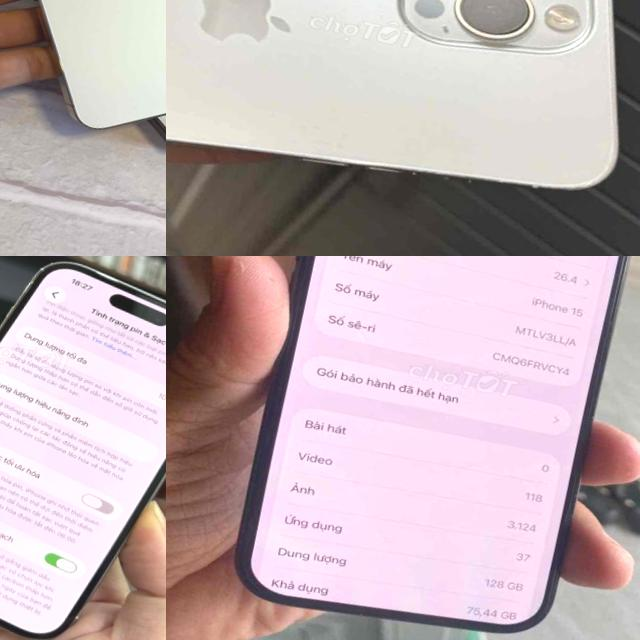gen_12_13: (0, 0, 166, 157)
gen_14: (166, 0, 640, 246), (0, 256, 166, 640)
gen_15: (220, 256, 640, 640)
